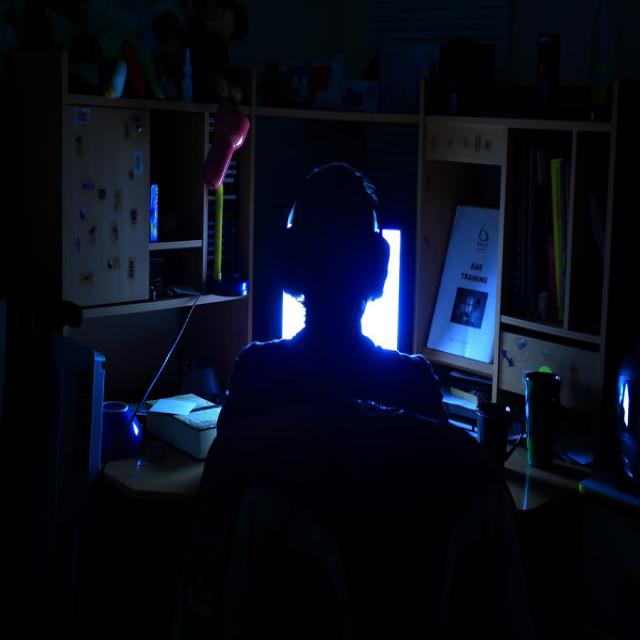Cup: (526, 352, 567, 496)
People: (262, 159, 464, 640)
Table: (11, 309, 640, 597)
chair: (230, 383, 520, 640)
